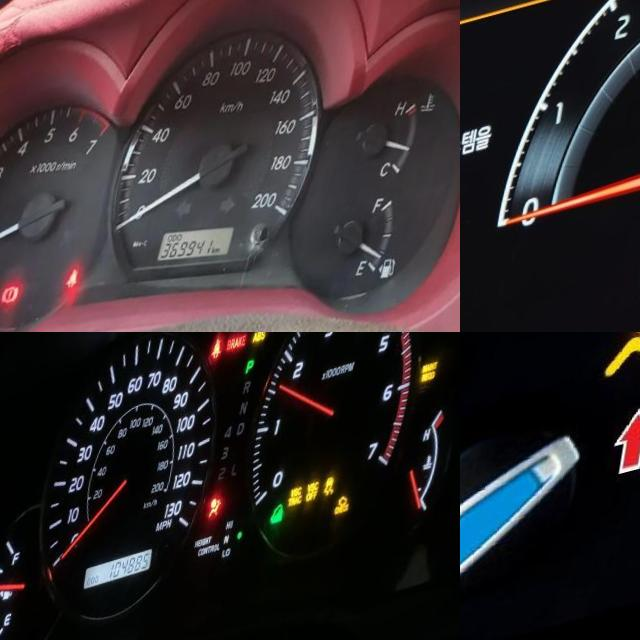Seat Belt: (79, 278, 94, 299)
